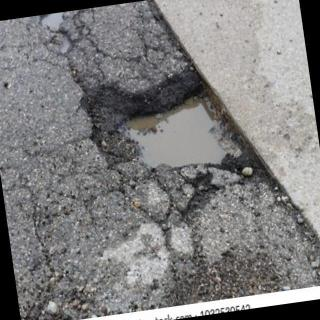pothole: (80, 70, 278, 185)
